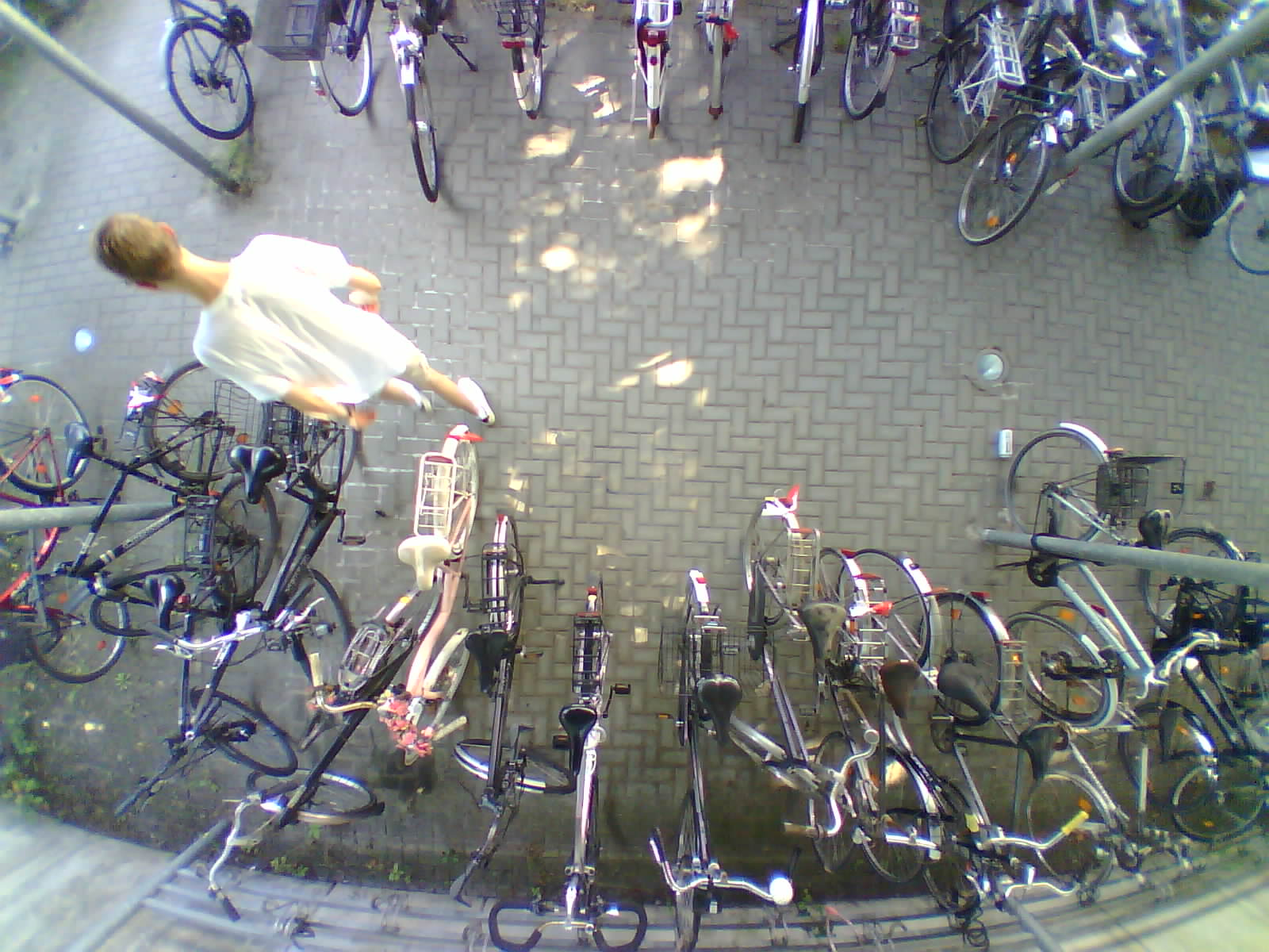bicylce: (76, 363, 274, 639), (1005, 422, 1178, 732), (256, 572, 451, 841), (379, 418, 509, 751), (0, 362, 127, 672), (1003, 605, 1129, 917), (224, 400, 360, 680), (653, 567, 750, 952), (540, 575, 638, 952), (916, 585, 1028, 912), (739, 472, 838, 834), (174, 484, 286, 775), (457, 501, 567, 797), (855, 537, 950, 878), (961, 0, 1062, 244), (813, 546, 877, 869)
saddle: (695, 673, 750, 757), (793, 595, 848, 678), (228, 441, 295, 508), (137, 565, 196, 638), (934, 660, 1002, 723), (394, 531, 456, 600), (464, 621, 521, 694), (1015, 719, 1072, 785), (555, 702, 602, 778), (1098, 10, 1158, 67), (297, 686, 344, 751), (876, 651, 921, 718), (1147, 703, 1194, 765), (1137, 506, 1183, 562), (57, 416, 96, 478)
